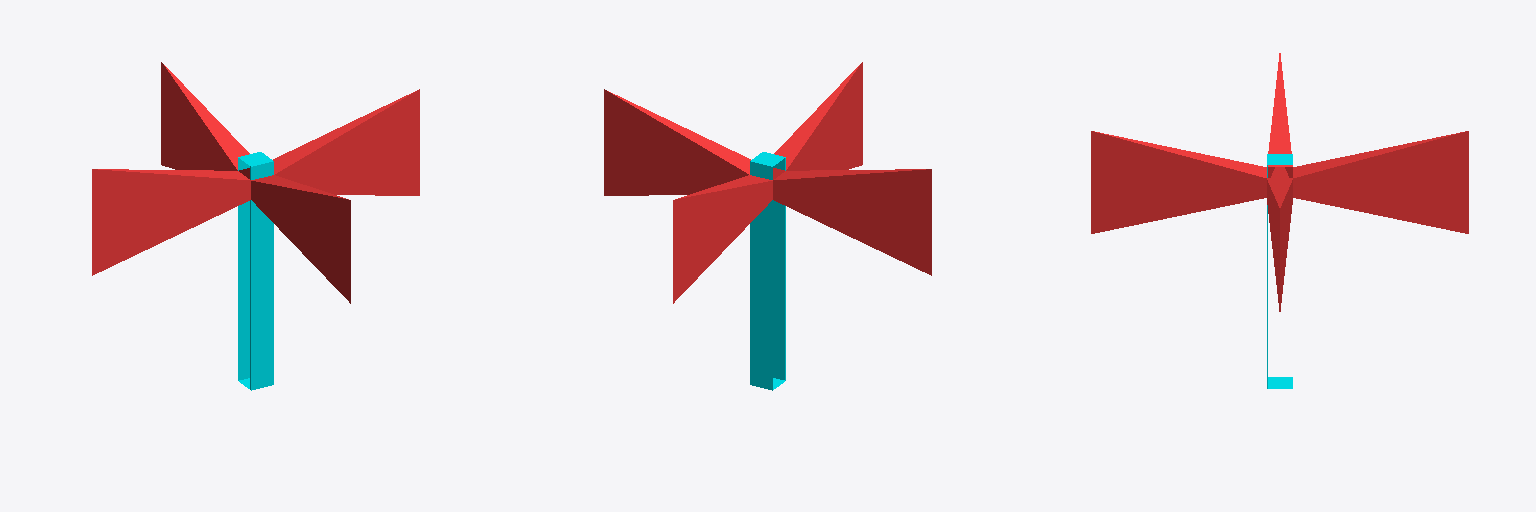
3 renders of one model, left to right at view 1: azimuth 30°, elevation 25°; view 2: azimuth 150°, elevation 25°; view 3: azimuth 270°, elevation 25°, orthographic.
Visible parts, largest first — view 1: fan:pCube1; view 2: fan:pCube1; view 3: fan:pCube1.
Part boxes in pixels (x1,y1,x2,y2): fan:pCube1: (92, 62, 419, 390); fan:pCube1: (604, 62, 931, 390); fan:pCube1: (1091, 53, 1468, 388).
Bounding box in the file's own units: 75.29 × 55.7 × 75.29.
1 materials, 1 textured.